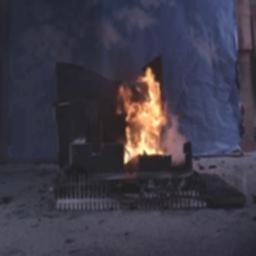fire: (116, 65, 174, 170)
